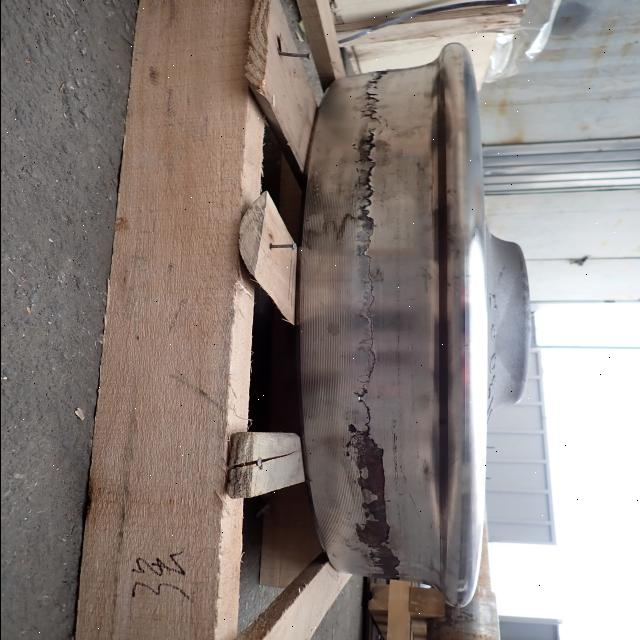boli: (342, 382, 404, 582), (348, 70, 386, 266), (356, 270, 386, 382)
